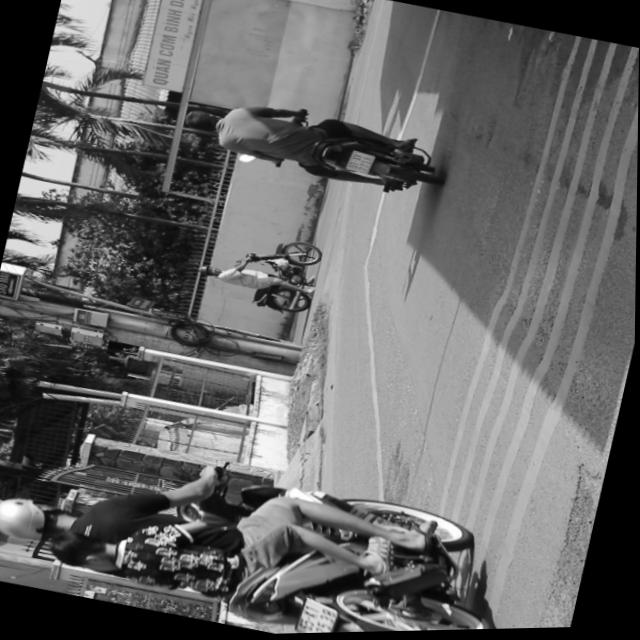helmet: (0, 489, 79, 552)
licenseplate: (0, 412, 518, 640), (175, 85, 448, 210)
motorcyclist: (45, 526, 125, 580), (183, 108, 224, 138)
nohelmet: (295, 596, 341, 635), (345, 151, 375, 177)
